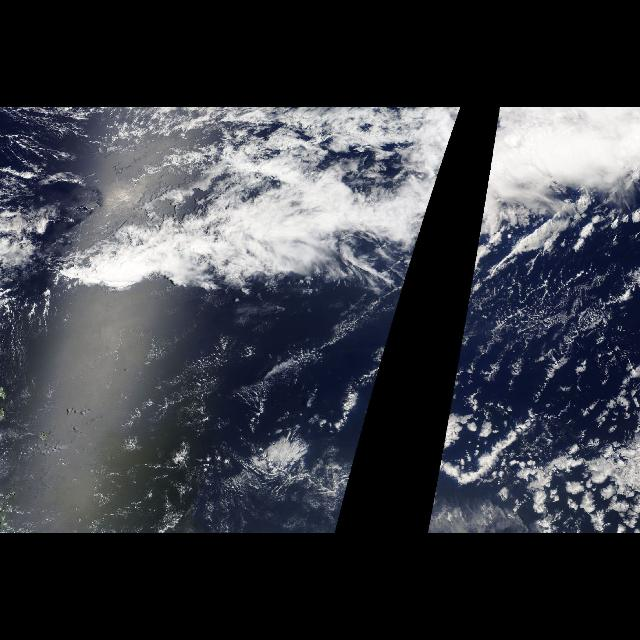Sugar: (6, 296, 334, 522)
